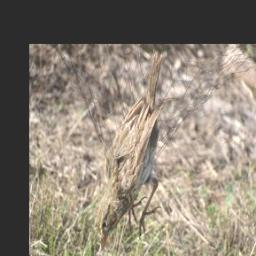Sparrow: (96, 47, 167, 253)
